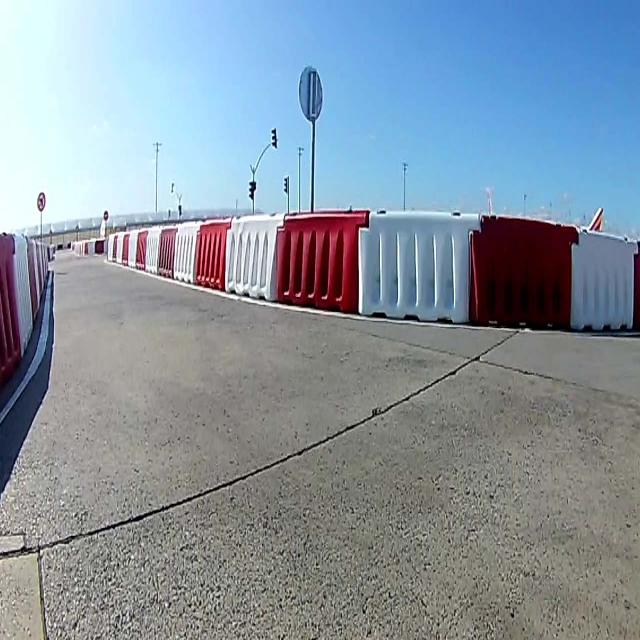soladonulmez: (37, 190, 45, 209)
